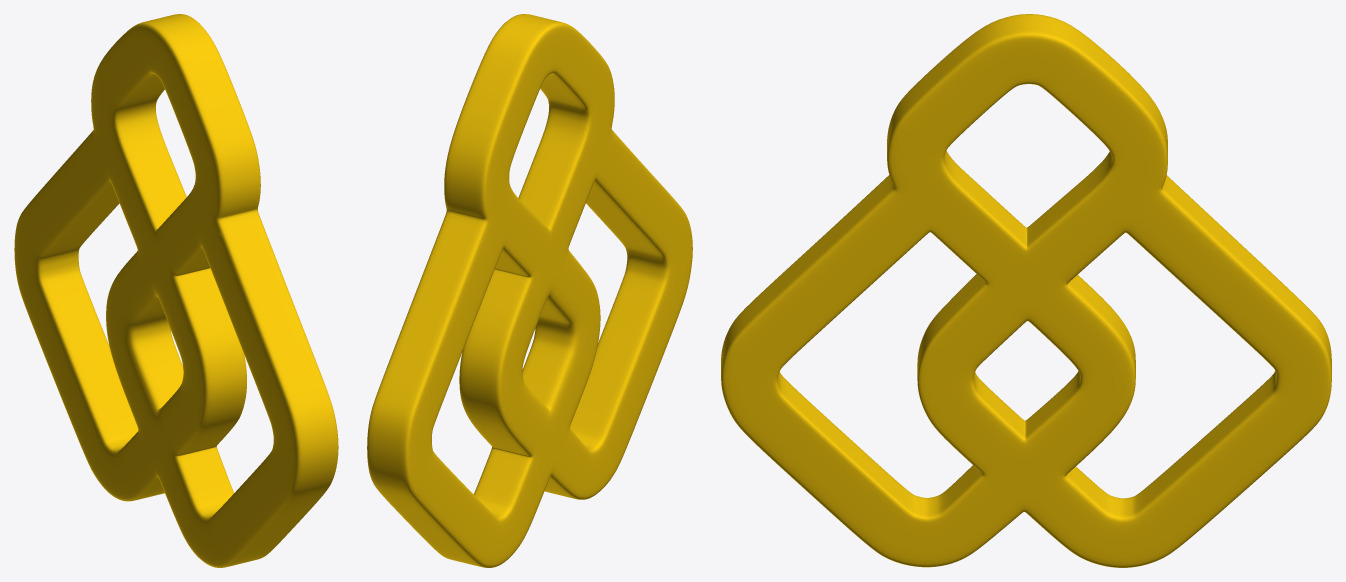
Rendered from Heromainimg.glb.
3 renders of one model, left to right at view 1: azimuth 30°, elevation 25°; view 2: azimuth 150°, elevation 25°; view 3: azimuth 270°, elevation 25°, orthographic. The views are drawn at different scales.
Visible parts, largest first — view 1: Plane; view 2: Plane; view 3: Plane.
Boxes of the visible parts, x1,y1,x2,y2 form: Plane: (14, 14, 338, 567); Plane: (367, 14, 692, 567); Plane: (721, 14, 1331, 567).
Bounding box in the file's own units: 0.3664 × 4.18 × 4.32.
